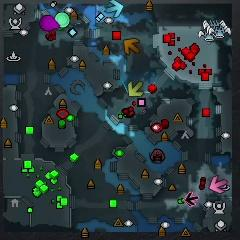p2: (54, 12, 71, 29)
p3: (40, 14, 60, 31)
x1: (209, 176, 227, 194)
x1Clone: (185, 192, 199, 206)
x2: (121, 37, 140, 57), (127, 81, 144, 97)
x3: (105, 0, 124, 18)
